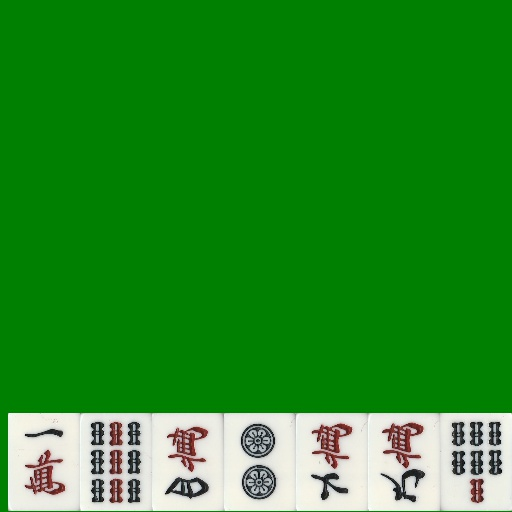1m: (8, 413, 80, 511)
2p: (224, 413, 296, 511)
4m: (152, 413, 224, 511)
7m: (296, 413, 368, 511)
7s: (440, 413, 512, 511)
9m: (368, 413, 440, 511)
9s: (80, 413, 152, 511)
